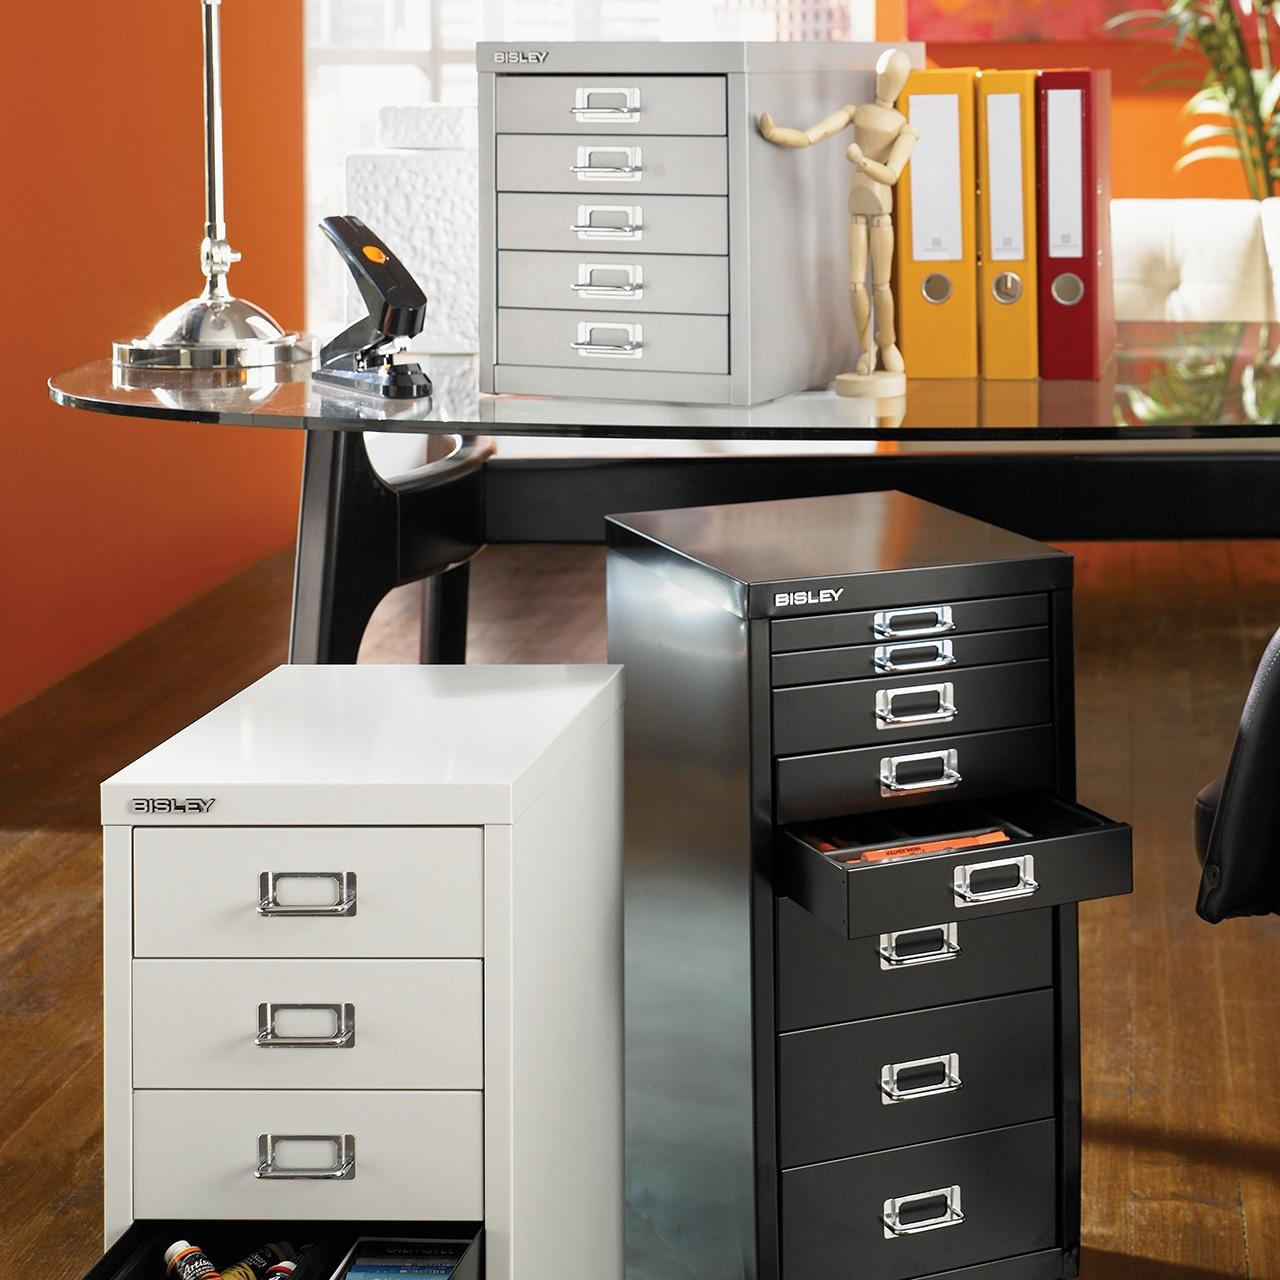Filing Cabinet: (749, 554, 1133, 1279), (98, 787, 515, 1279), (474, 40, 750, 404)
